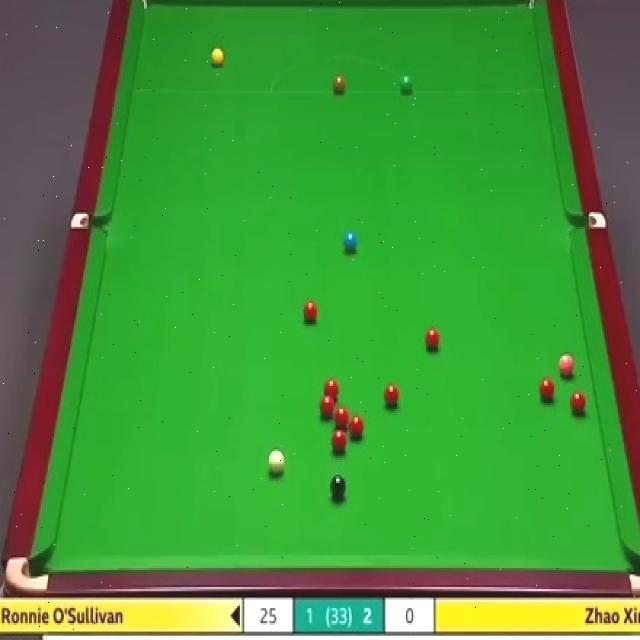black-ball: (328, 476, 347, 501)
blue-ball: (345, 229, 357, 254)
brown-ball: (332, 75, 347, 94)
green-ball: (399, 73, 414, 96)
pink-ball: (557, 353, 575, 377)
red-ball: (384, 382, 402, 410), (569, 391, 588, 415), (538, 376, 554, 403), (302, 302, 320, 324), (320, 396, 335, 421), (349, 414, 364, 439), (334, 409, 350, 432), (425, 327, 440, 351), (331, 430, 346, 453), (324, 379, 338, 402)
white-ball: (267, 448, 286, 478)
yellow-ball: (210, 46, 225, 69)
